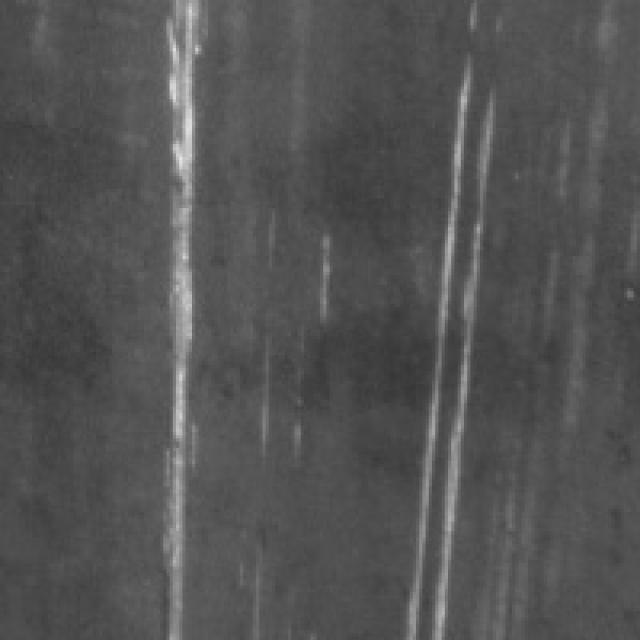scratches: (403, 0, 490, 637), (138, 3, 215, 634)
